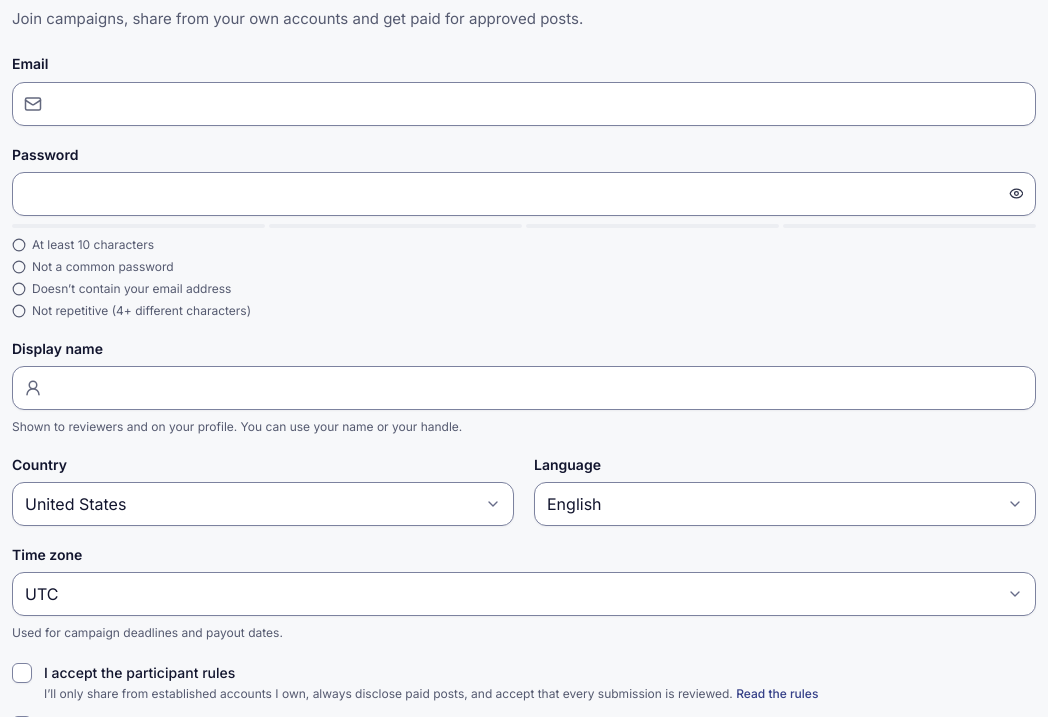
it: RegisterPage › maps ASP.NET validation keys and the terms code
Type "grace@example.com" into the field labelled "Email" at [524, 104], box [12,82,1036,126]
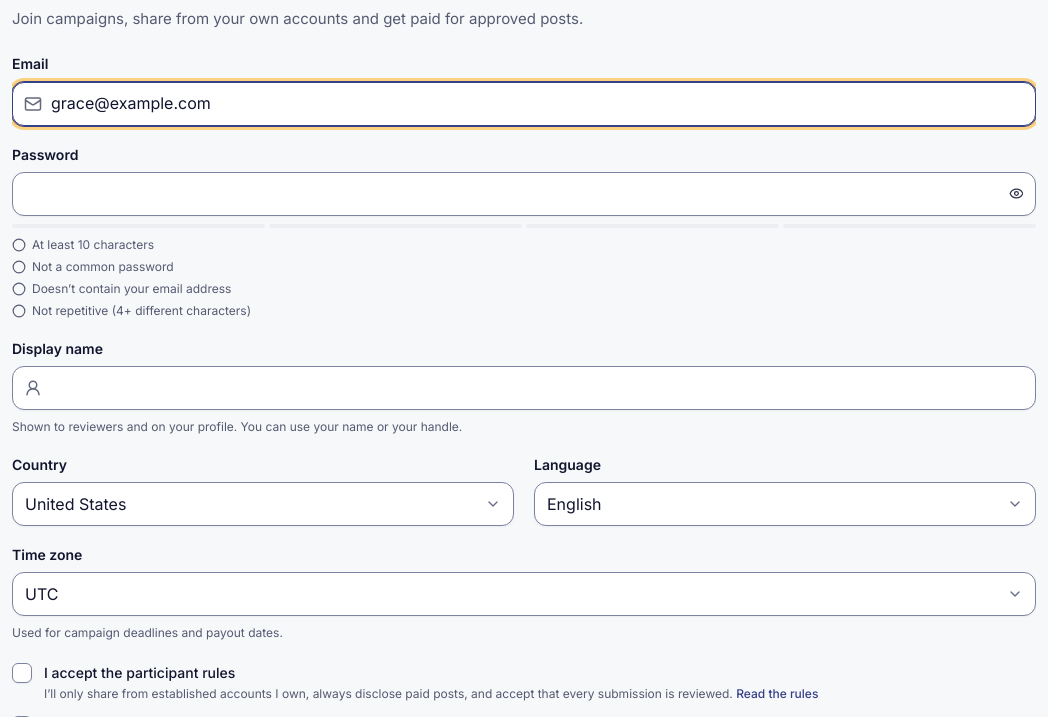
Type "Correct-Horse-42" into the password field labelled "Password" at [524, 194], box [12,172,1036,216]
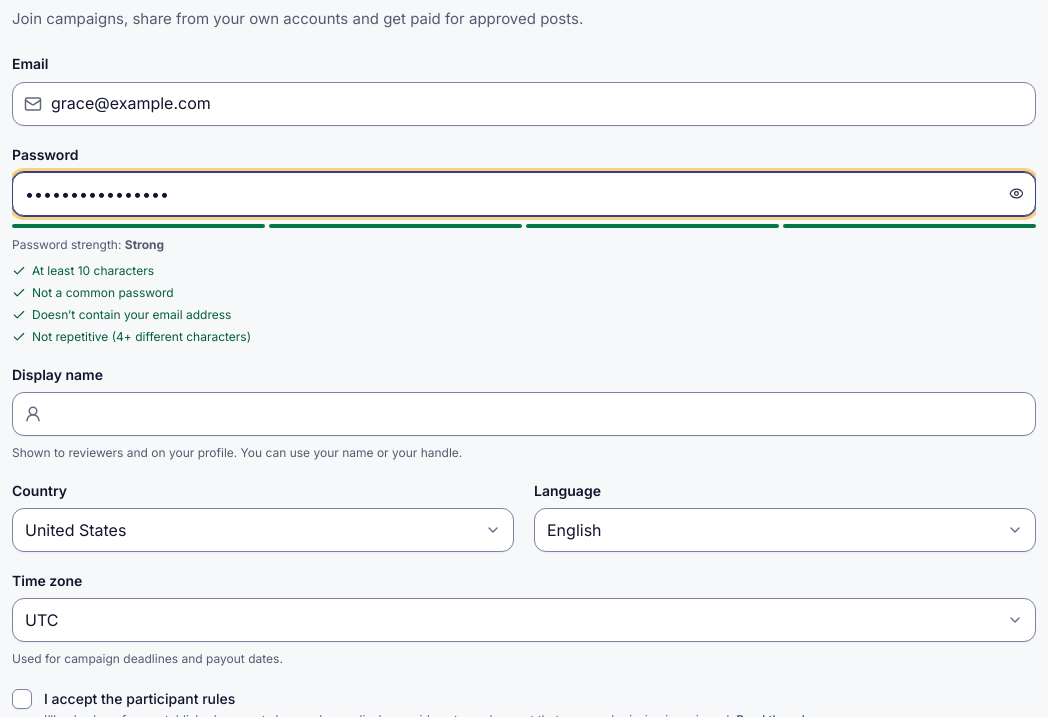
Type "Grace Hopper" into the field labelled "Display name" at [524, 414], box [12,392,1036,436]
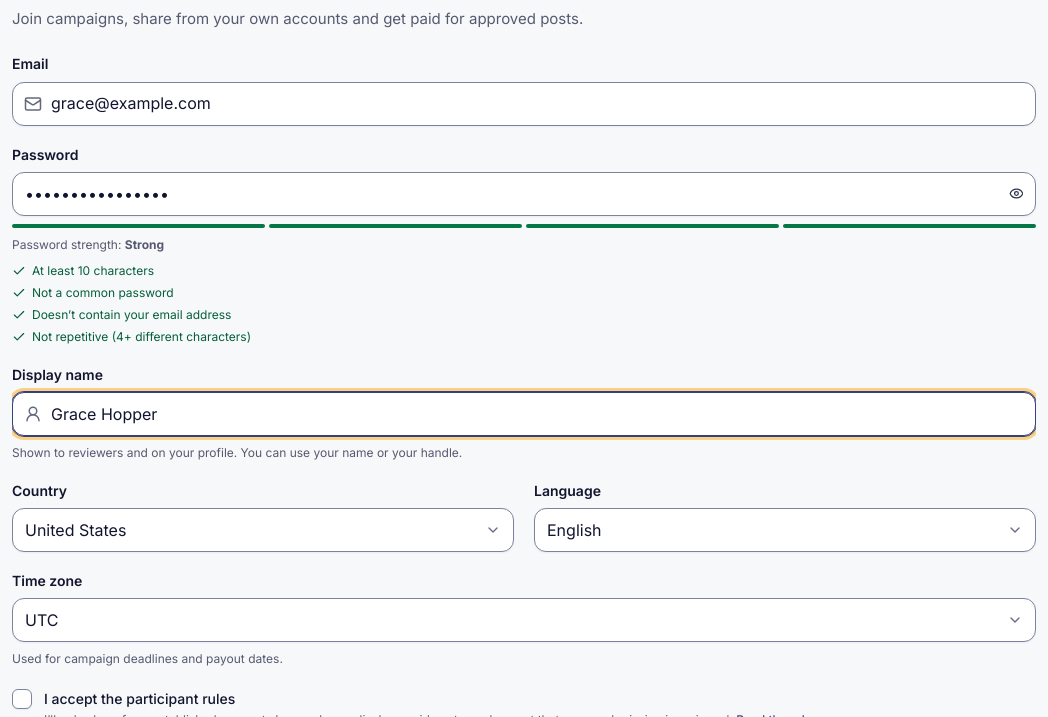
Select "United Kingdom" in the dropdown labelled "Country" at [263, 530], box [12,508,514,552]
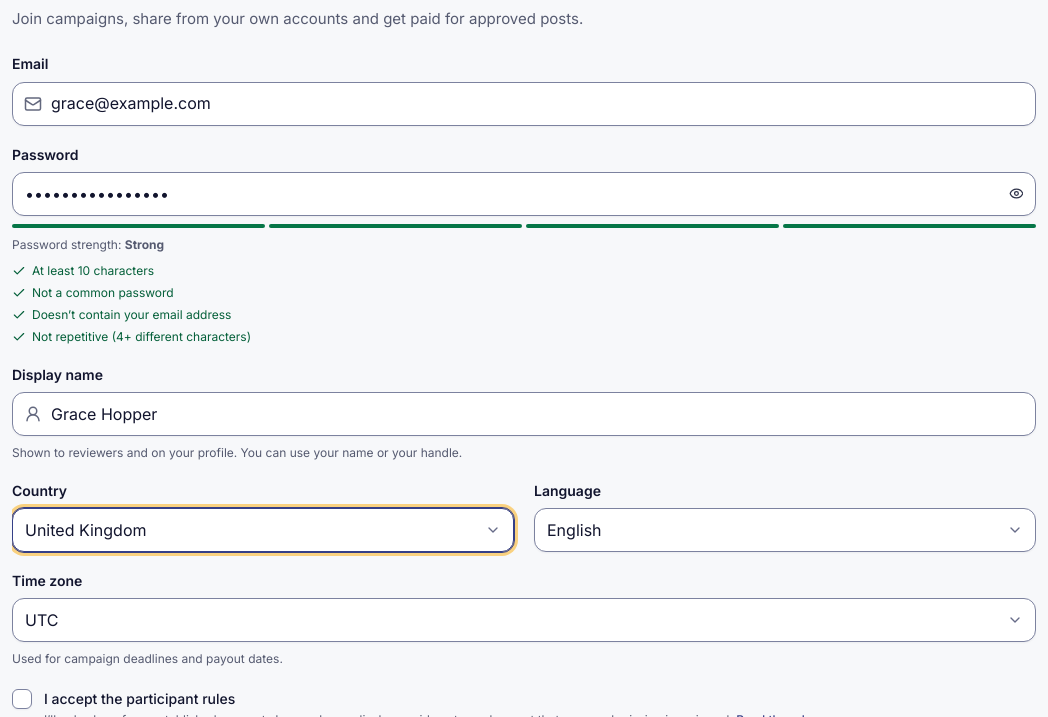
Click the checkbox labelled "accept the participant rules" at [22, 699], box [12,689,32,709]
(page scrolled)
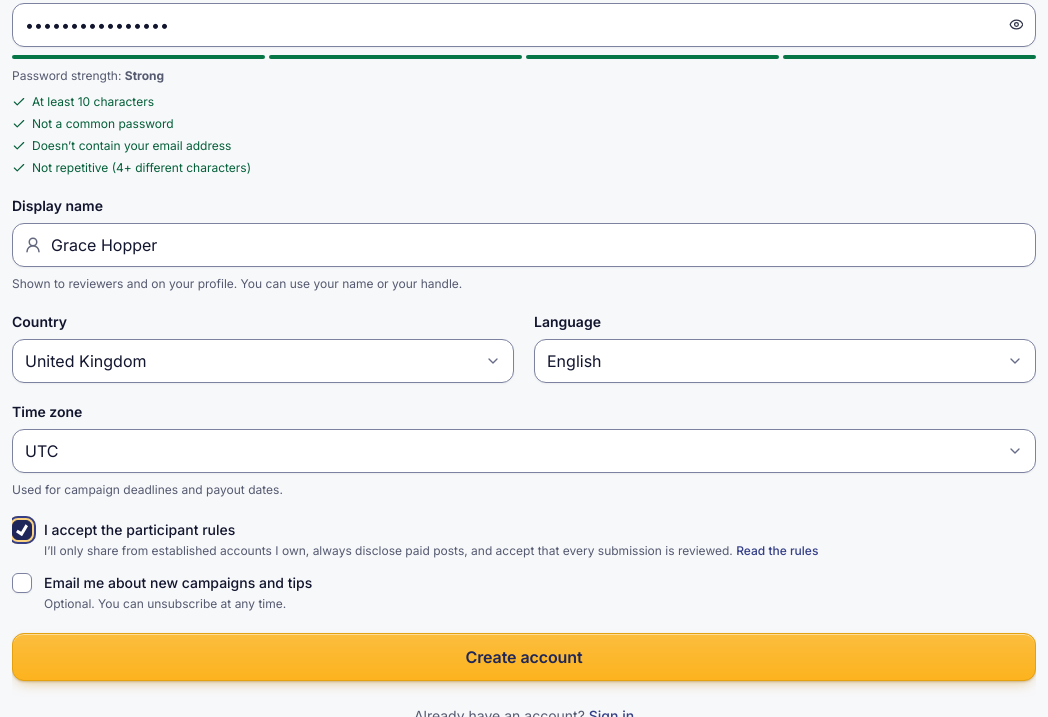
Click the button "Create account" at [524, 657], box [12,633,1036,681]
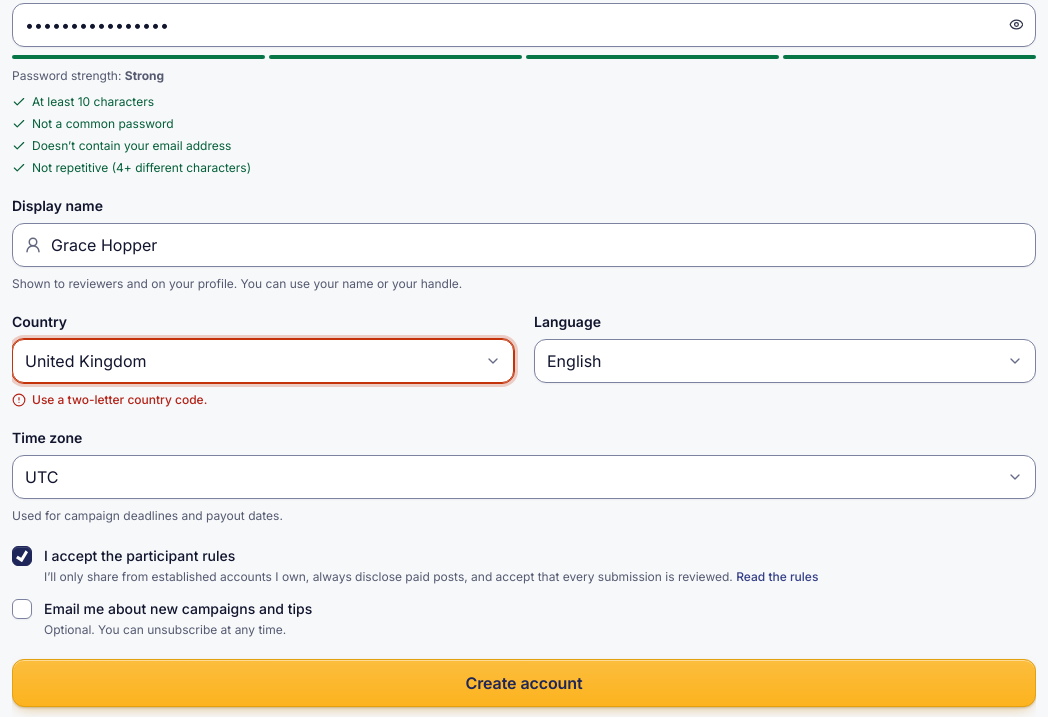
Expected: the text "Use a two-letter country code." is shown, [32,391,207,409]
